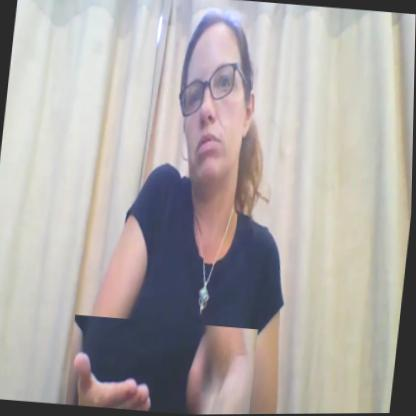Expensive: (67, 313, 261, 416)
